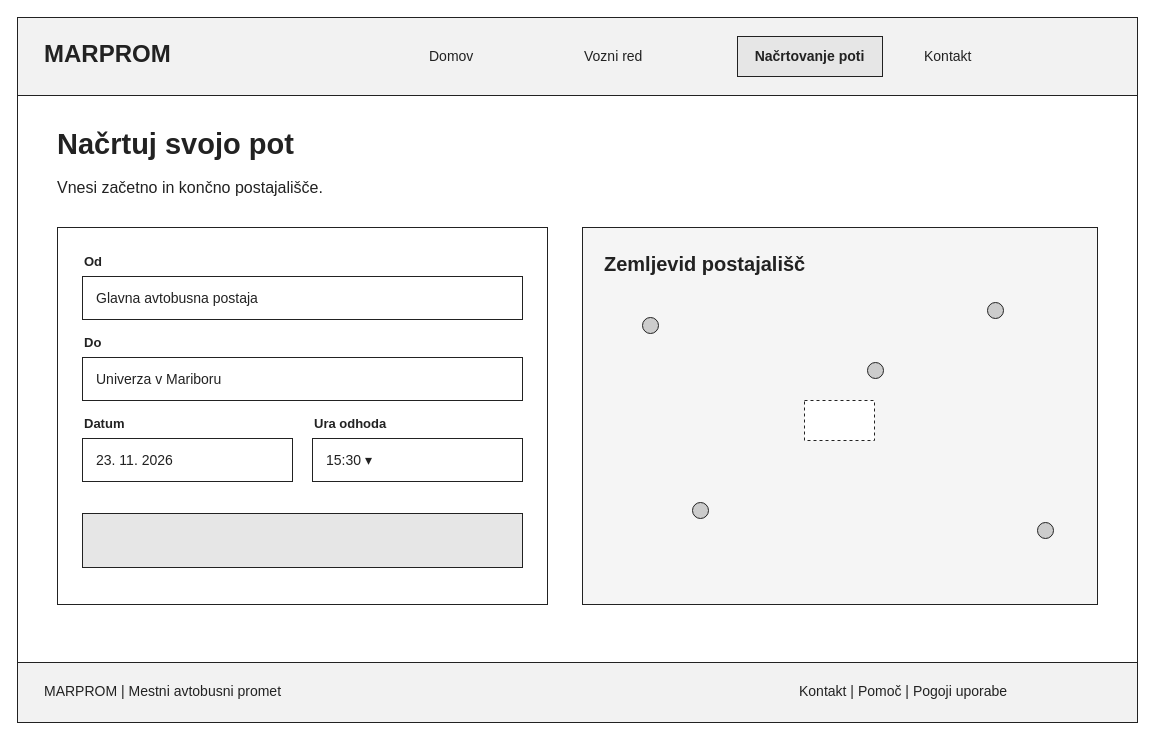
Some shapes in this 1155 by 740 pixel diagram are drawn without their labels. Each missing label, with the centre of its shape:
"MAPA" belongs at point (839, 420).
"POIŠČI POVEZAVE →" belongs at point (302, 540).
